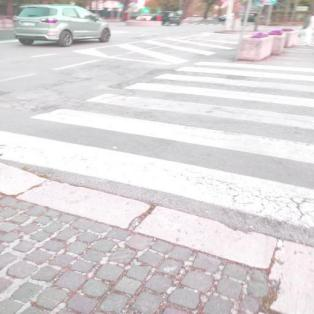Paso de Cebra: (81, 80, 313, 134)
